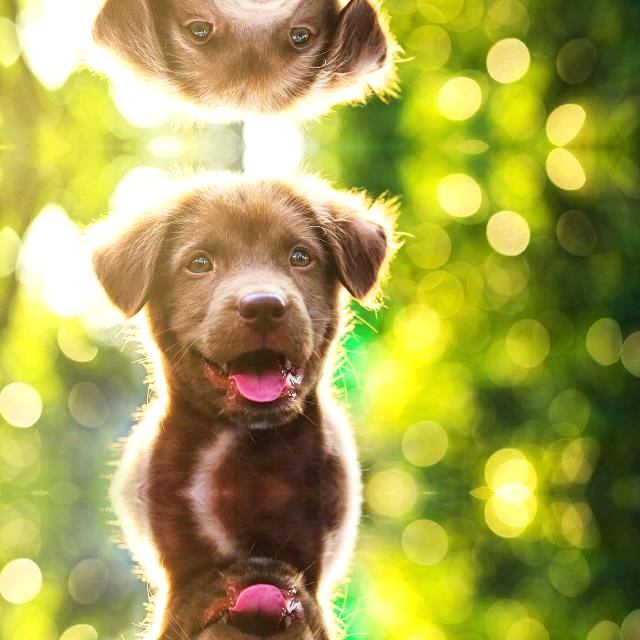dog: (88, 164, 398, 412), (89, 0, 398, 128), (89, 574, 398, 640)
